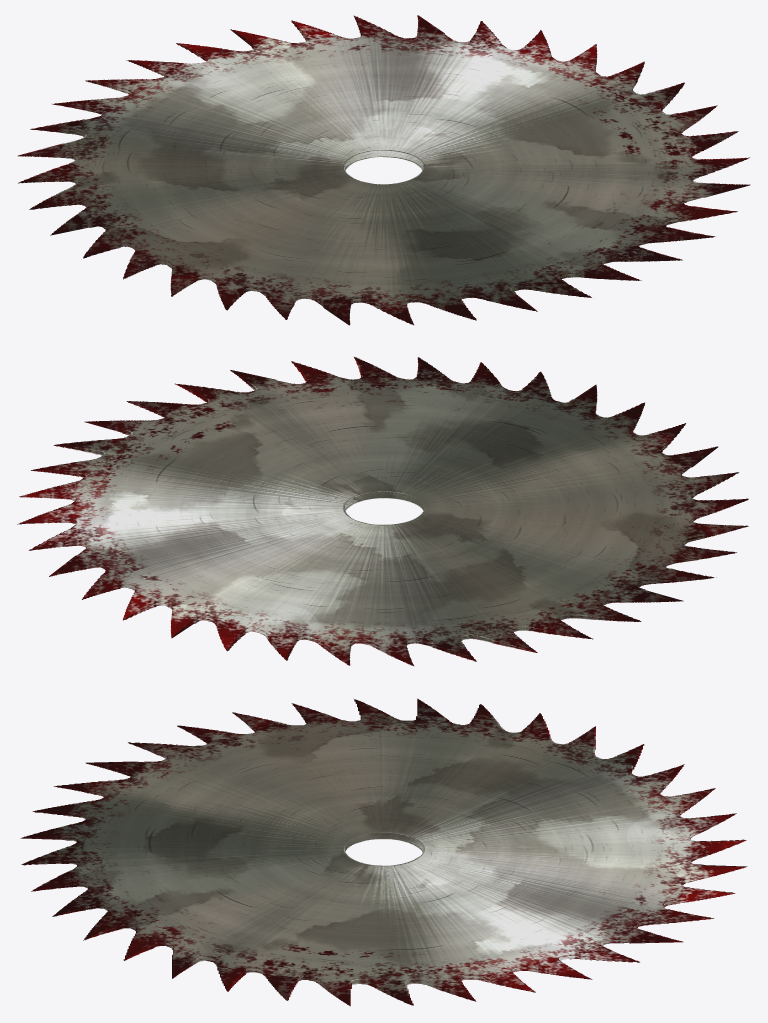
The model's file is CuchillaCircular.fbx.
3 renders of one model, top to bottom at view 1: azimuth 30°, elevation 25°; view 2: azimuth 150°, elevation 25°; view 3: azimuth 270°, elevation 25°, orthographic.
Visible parts, largest first — view 1: pCylinder1; view 2: pCylinder1; view 3: pCylinder1.
Boxes of the visible parts, x1,y1,x2,y2 form: pCylinder1: (18,15,750,325); pCylinder1: (17,357,748,665); pCylinder1: (20,698,747,1006).
Bounding box in the file's own units: 4.64 × 0.0457 × 4.64.
